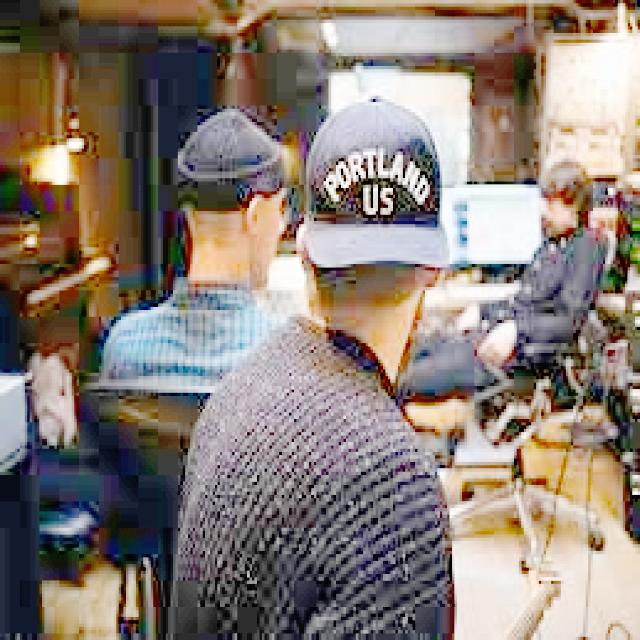TOPI: (292, 89, 452, 271), (168, 99, 292, 211)
